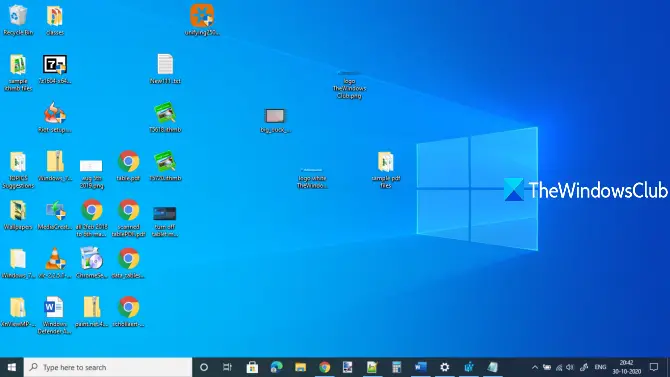search_box: (24, 358, 193, 377)
start_bar: (4, 360, 20, 375)
